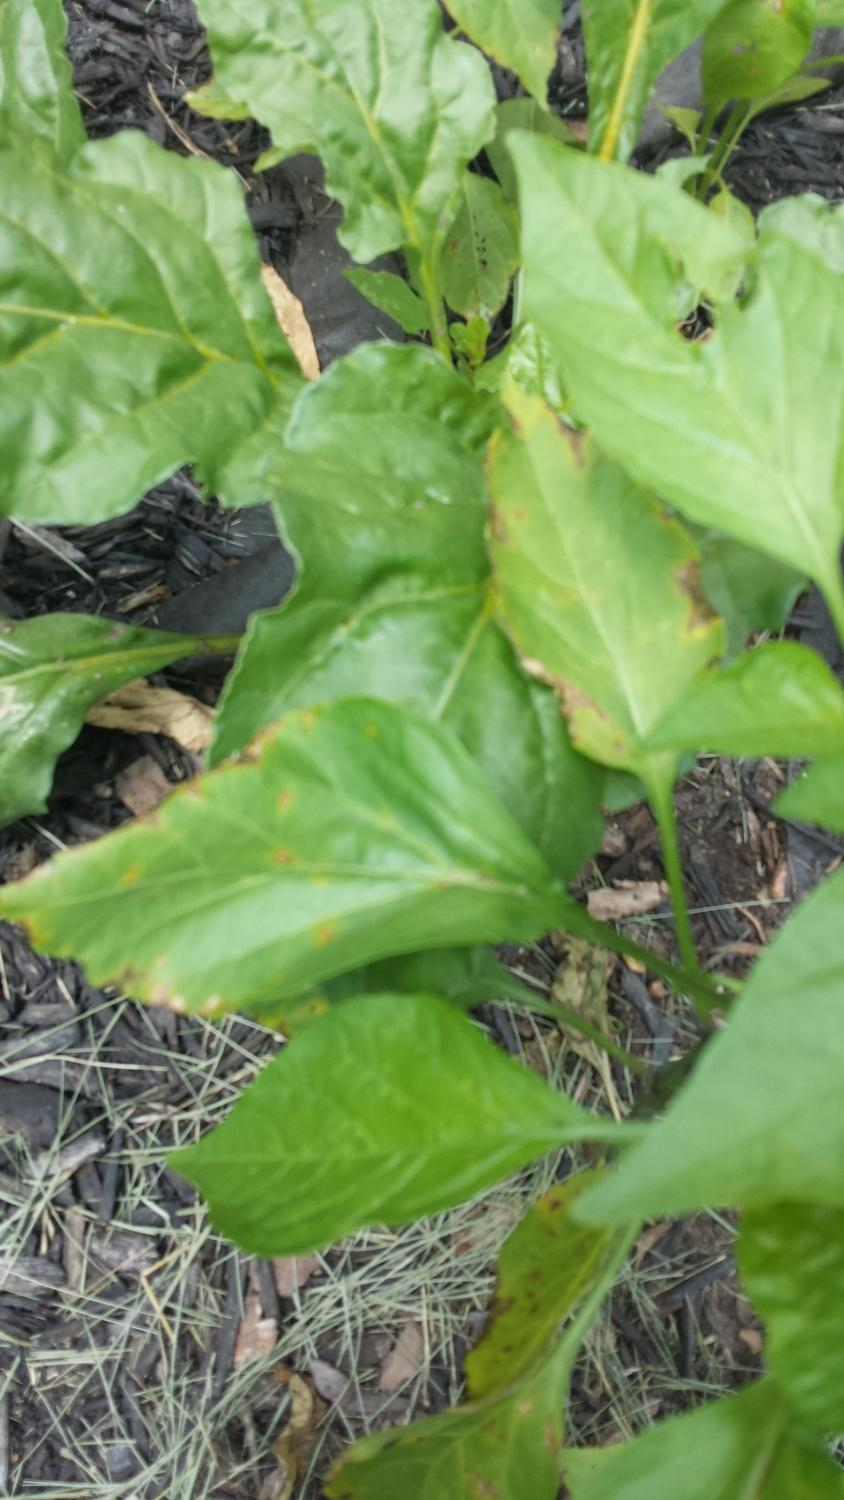Bell_pepper leaf: (1, 682, 560, 1038), (467, 364, 730, 814), (306, 1358, 597, 1500), (470, 1167, 624, 1391)
